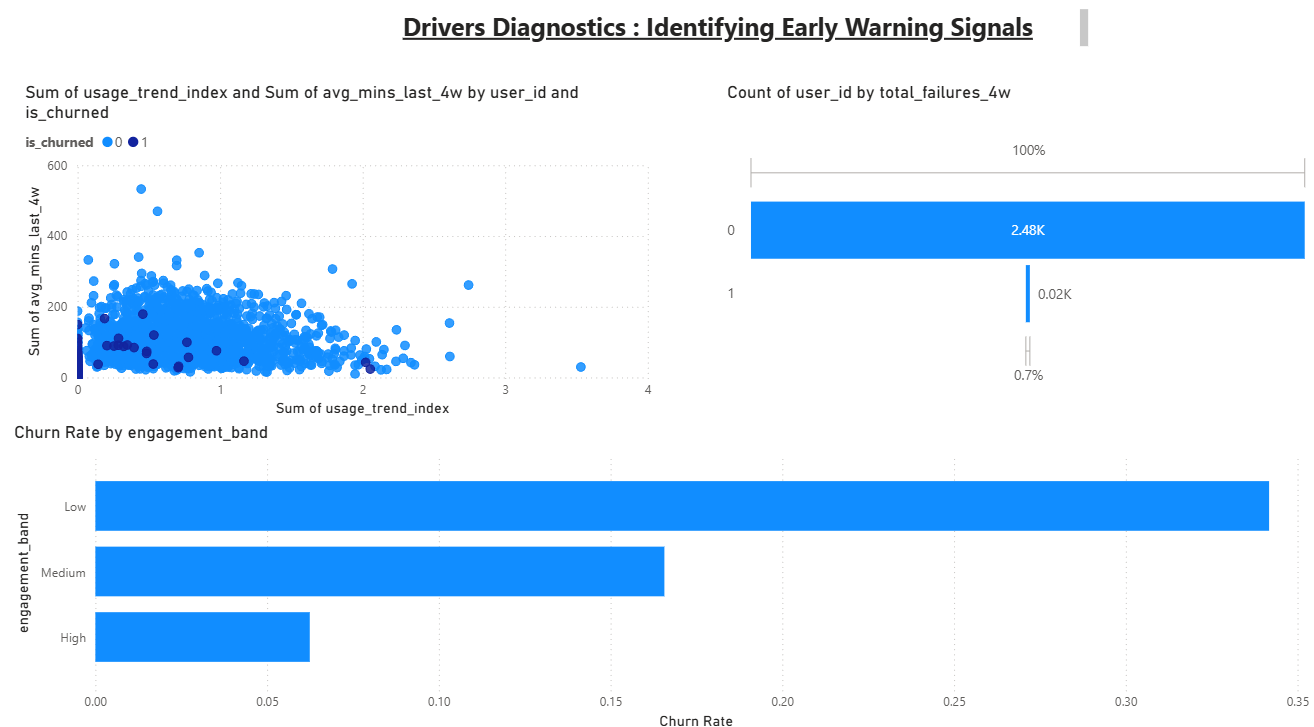

The dashboard page shown, as its layout file describes it:
{"tool":"powerbi","page":{"name":"Driver Diagnostic","canvas":[1280,720],"ordinal":2},"visuals":[{"type":"scatterChart","fields":{"Category":["dim_users_enriched.user_id"],"X":["Sum(model_churn_dataset.usage_trend_index)"],"Y":["Sum(model_churn_dataset.avg_mins_last_4w)"],"Series":["dim_users_enriched.is_churned"]},"box":[20.4,85.6,619.6,330.7],"z":0},{"type":"clusteredBarChart","fields":{"Category":["dim_users_enriched.engagement_band"],"Y":["dim_users_enriched.Churn Rate"]},"box":[9.7,416.3,1270.3,303.5],"z":1000},{"type":"funnel","fields":{"Category":["model_churn_dataset.total_failures_4w"],"Y":["CountNonNull(model_churn_dataset.user_id)"]},"box":[703.2,85.6,576.8,330.7],"z":2000},{"type":"textbox","box":[342.4,9.7,721.7,51.6],"z":3000}]}

Visuals, with their boxes in screenshot pixels (x1, y1, x2, y2), scaled from the page's 1280x720 canvas onto the 1314x727 screenshot:
scatterChart - dim_users_enriched.user_id x Sum(model_churn_dataset.usage_trend_index): 21, 86, 657, 420
clusteredBarChart - dim_users_enriched.engagement_band x dim_users_enriched.Churn Rate: 10, 420, 1313, 726
funnel - model_churn_dataset.total_failures_4w x CountNonNull(model_churn_dataset.user_id): 722, 86, 1313, 420
textbox: 351, 10, 1092, 62
